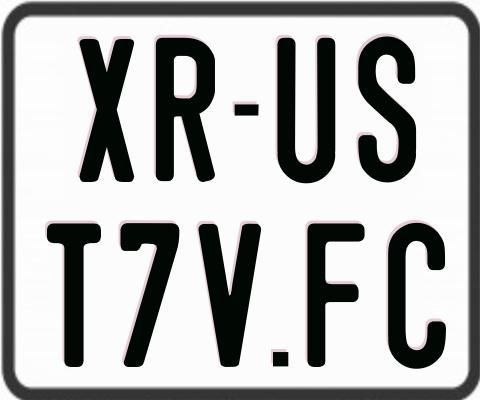7: (117, 222, 178, 366)
C: (386, 221, 444, 368)
F: (306, 220, 366, 365)
R: (154, 35, 213, 185)
S: (355, 33, 415, 183)
T: (47, 220, 105, 368)
U: (275, 36, 338, 187)
V: (197, 221, 266, 370)
X: (77, 36, 133, 185)
